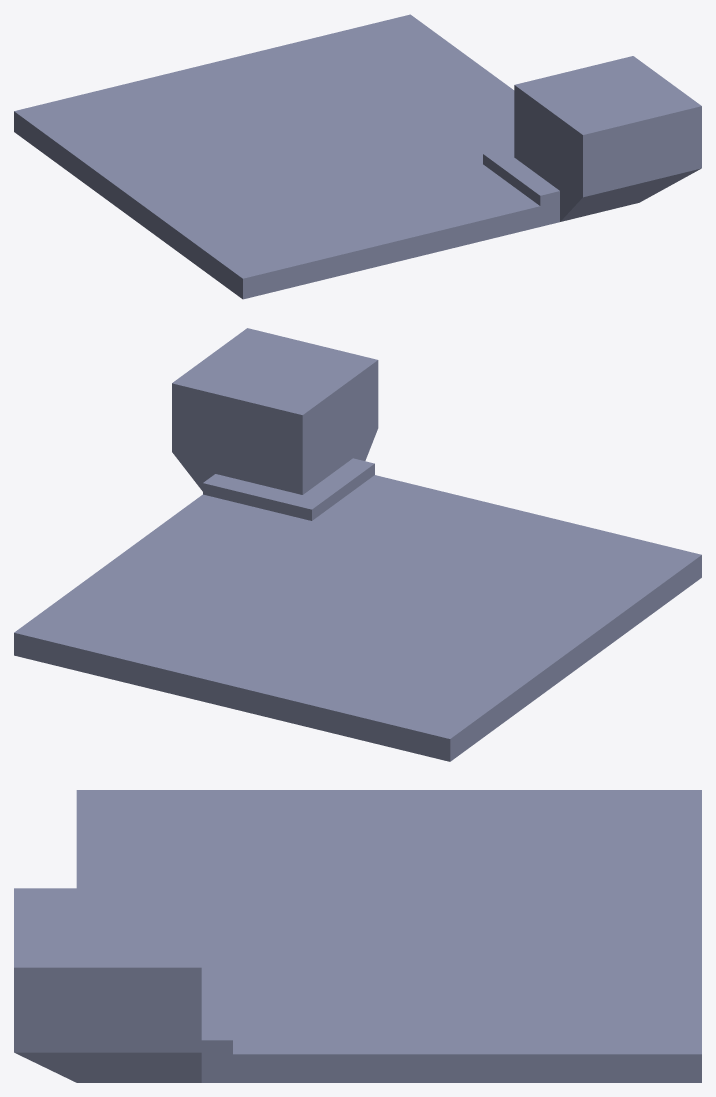
The model's file is roof-flat-corner-inner.obj.
3 views of the same model, one above another, from view 1: azimuth 30°, elevation 25°; view 2: azimuth 150°, elevation 25°; view 3: azimuth 270°, elevation 25° (orthographic). The views are drawn at different scales.
Size of the model in its own units: 2.2 by 0.5 by 2.2.
